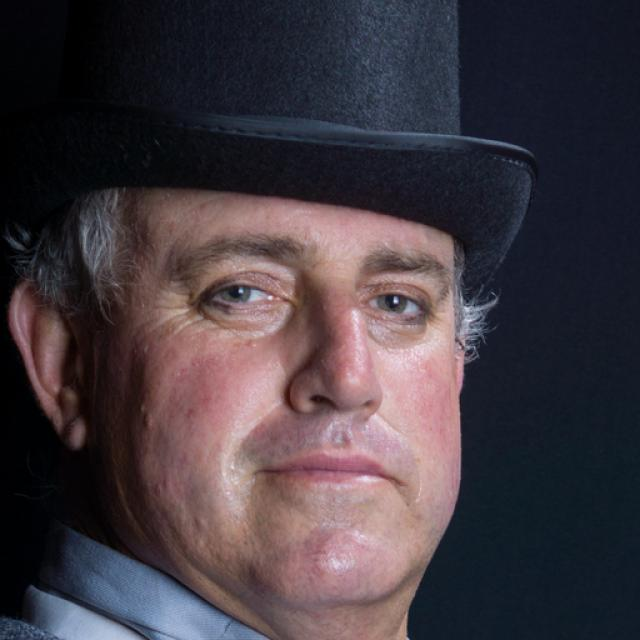Acne: (130, 396, 163, 431), (184, 508, 212, 539), (148, 477, 177, 503), (130, 337, 156, 366), (314, 295, 335, 321), (238, 333, 262, 354)
